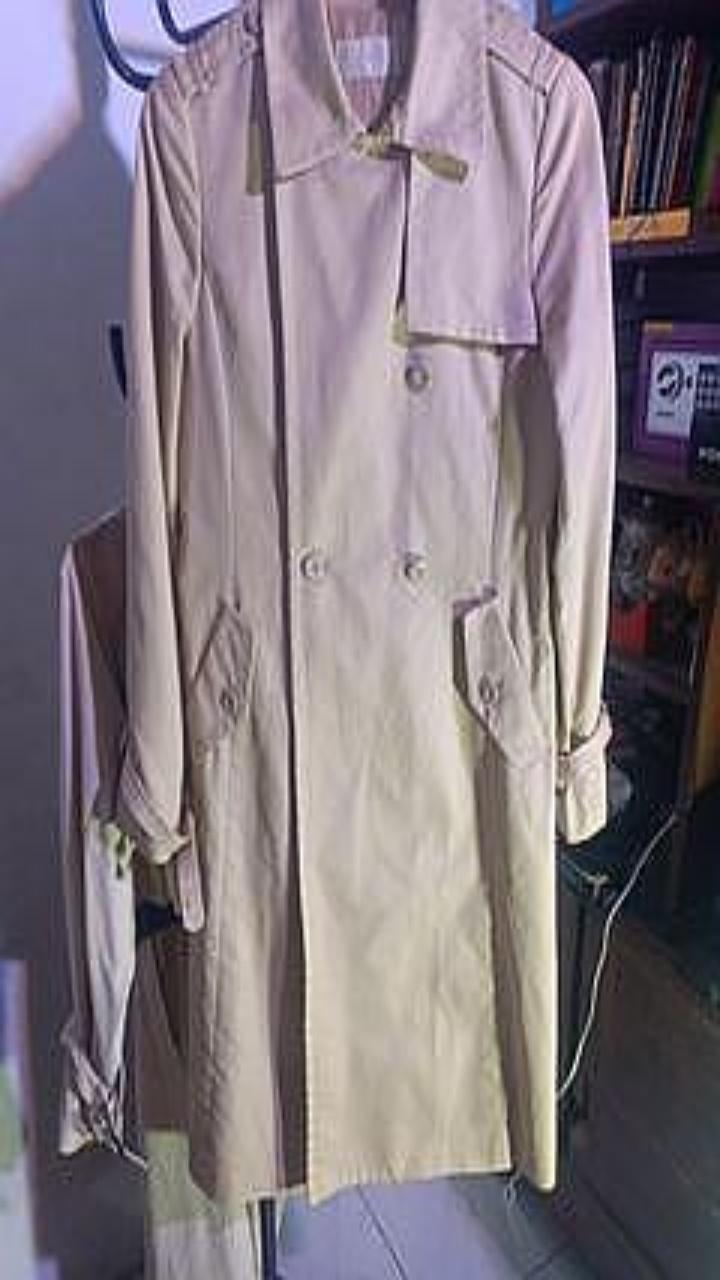Coat: (59, 509, 261, 1279)
